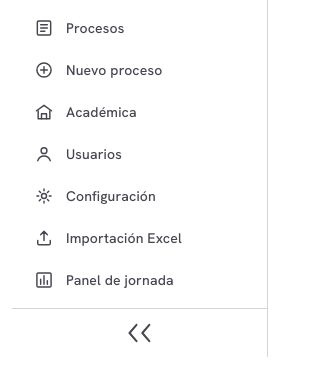
Test: NavegacionPrincipal › colapsar/expandir › al colapsar, oculta las etiquetas de texto (sólo íconos) y el botón pasa a "Expandir menú"
The width and height of the screenshot is (332, 374).
What coordinates should you click on to do the following:
click the button named "colapsar menú"
I would click on:
 (140, 332)
Its box is [12,308,267,357].
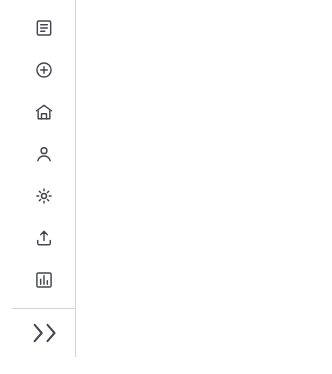
expect the text "Procesos" is gone: met
expect the button named "expandir menú" is shown: met, box [12,308,75,357]
